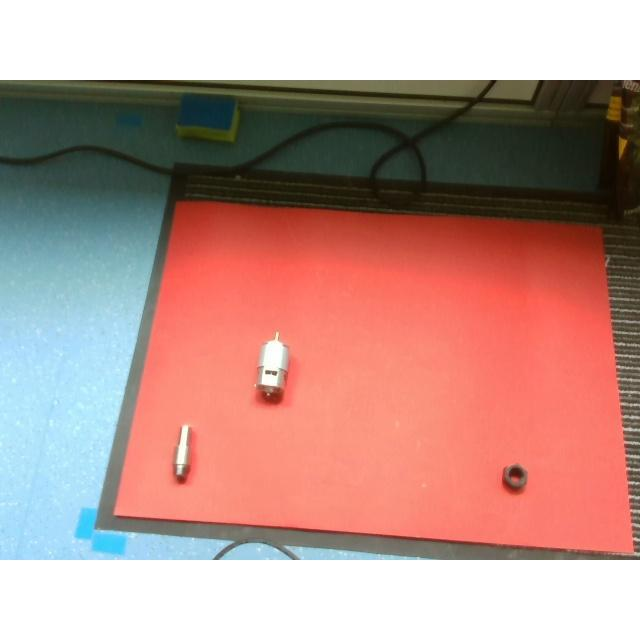Axis2: (173, 424, 195, 481)
M20: (501, 464, 527, 492)
Motor2: (254, 332, 290, 401)
